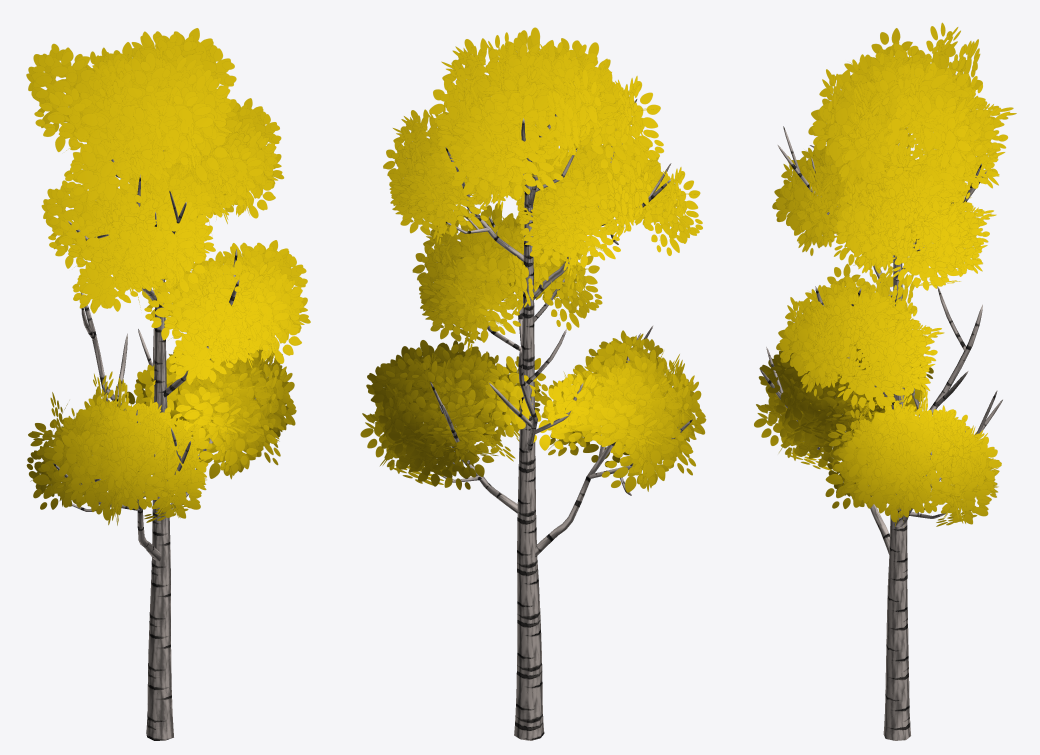
Rendered from BirchTree_2.gltf.
3 views of the same model, side by side, from view 1: azimuth 30°, elevation 25°; view 2: azimuth 150°, elevation 25°; view 3: azimuth 270°, elevation 25° (orthographic). The views are drawn at different scales.
Visible parts, largest first — view 1: BirchTree_2; view 2: BirchTree_2; view 3: BirchTree_2.
Part boxes in pixels (left/top/right/bottom): BirchTree_2: left=26, top=28, right=310, bottom=740; BirchTree_2: left=360, top=27, right=706, bottom=740; BirchTree_2: left=754, top=22, right=1016, bottom=740.
Size of the model in its own units: 3.35 by 7.57 by 2.81.
2 materials, 2 textured.
